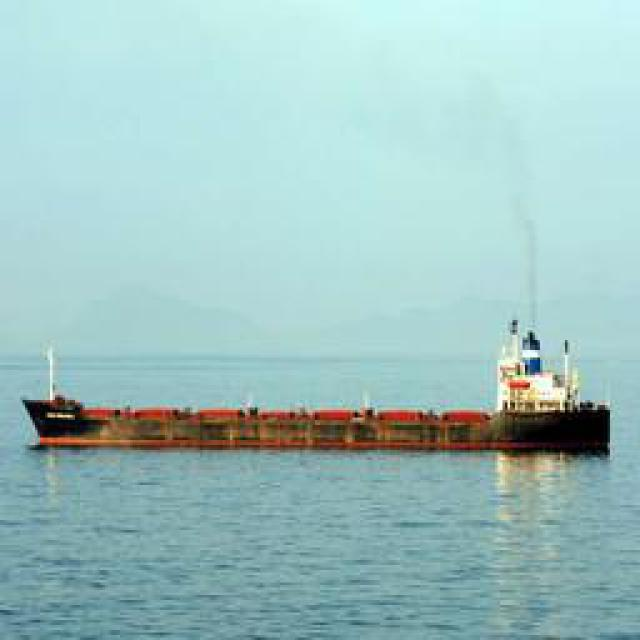Ship: (12, 399, 625, 452)
